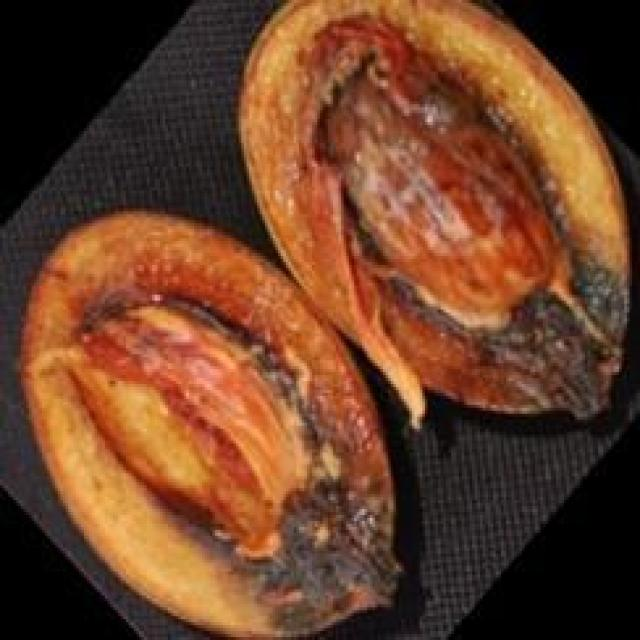damaged: (239, 0, 627, 423), (24, 211, 399, 634)
